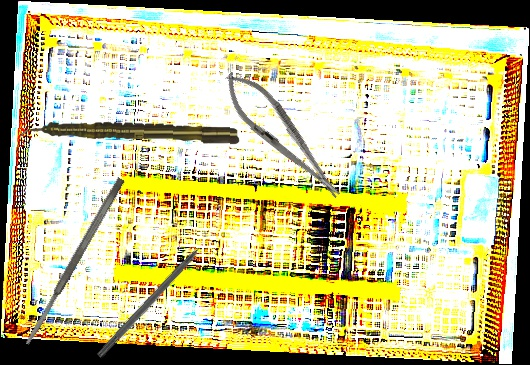Handpiece: (19, 118, 241, 146)
Hook Surgical: (95, 231, 217, 361)
Needle Holder: (213, 62, 352, 210)
Spatula Surgical: (21, 176, 127, 347)
